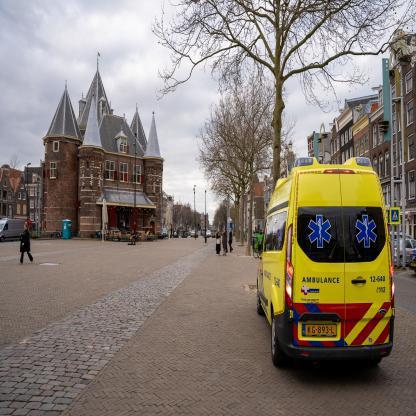Ambulance - v1 Ambulance last generate: (258, 158, 396, 388)
